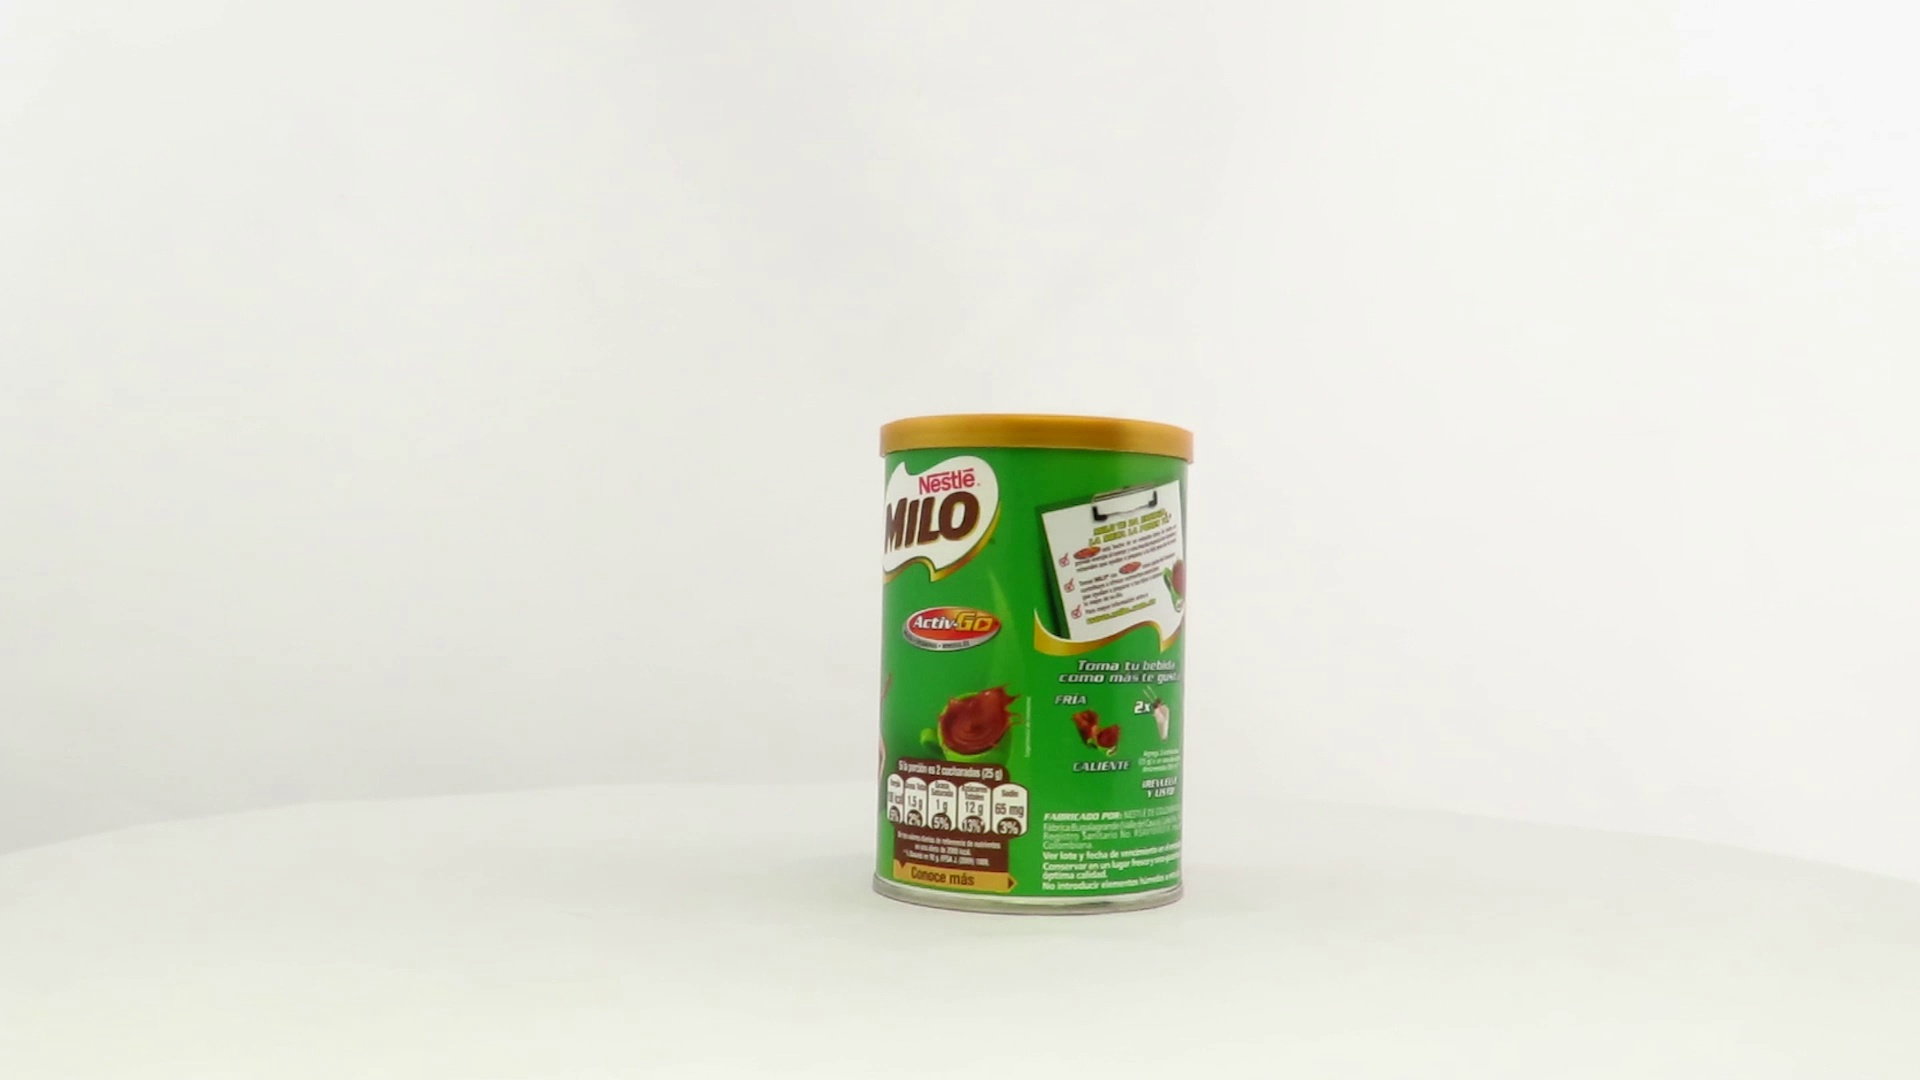COL0170203LAT20000: (866, 407, 1200, 923)
